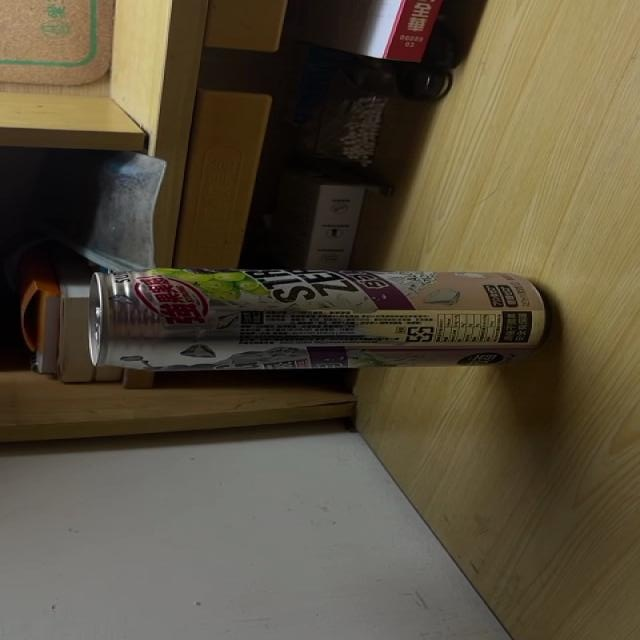Liquor: (82, 267, 546, 374)
